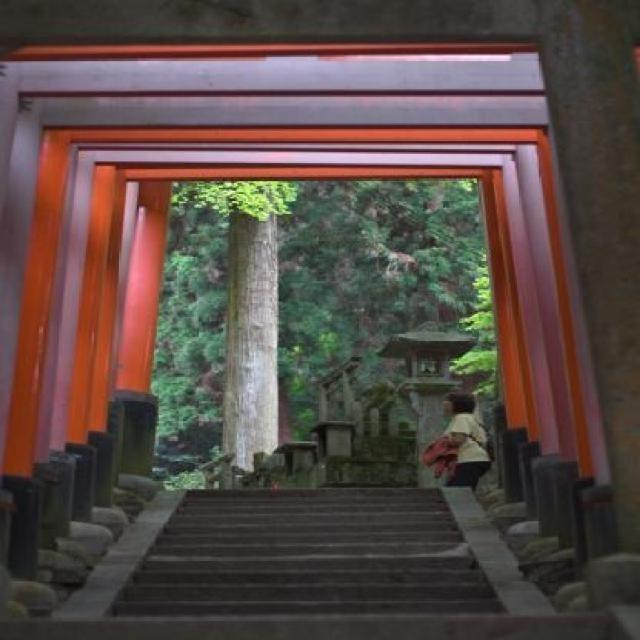stair: (0, 486, 613, 640)
